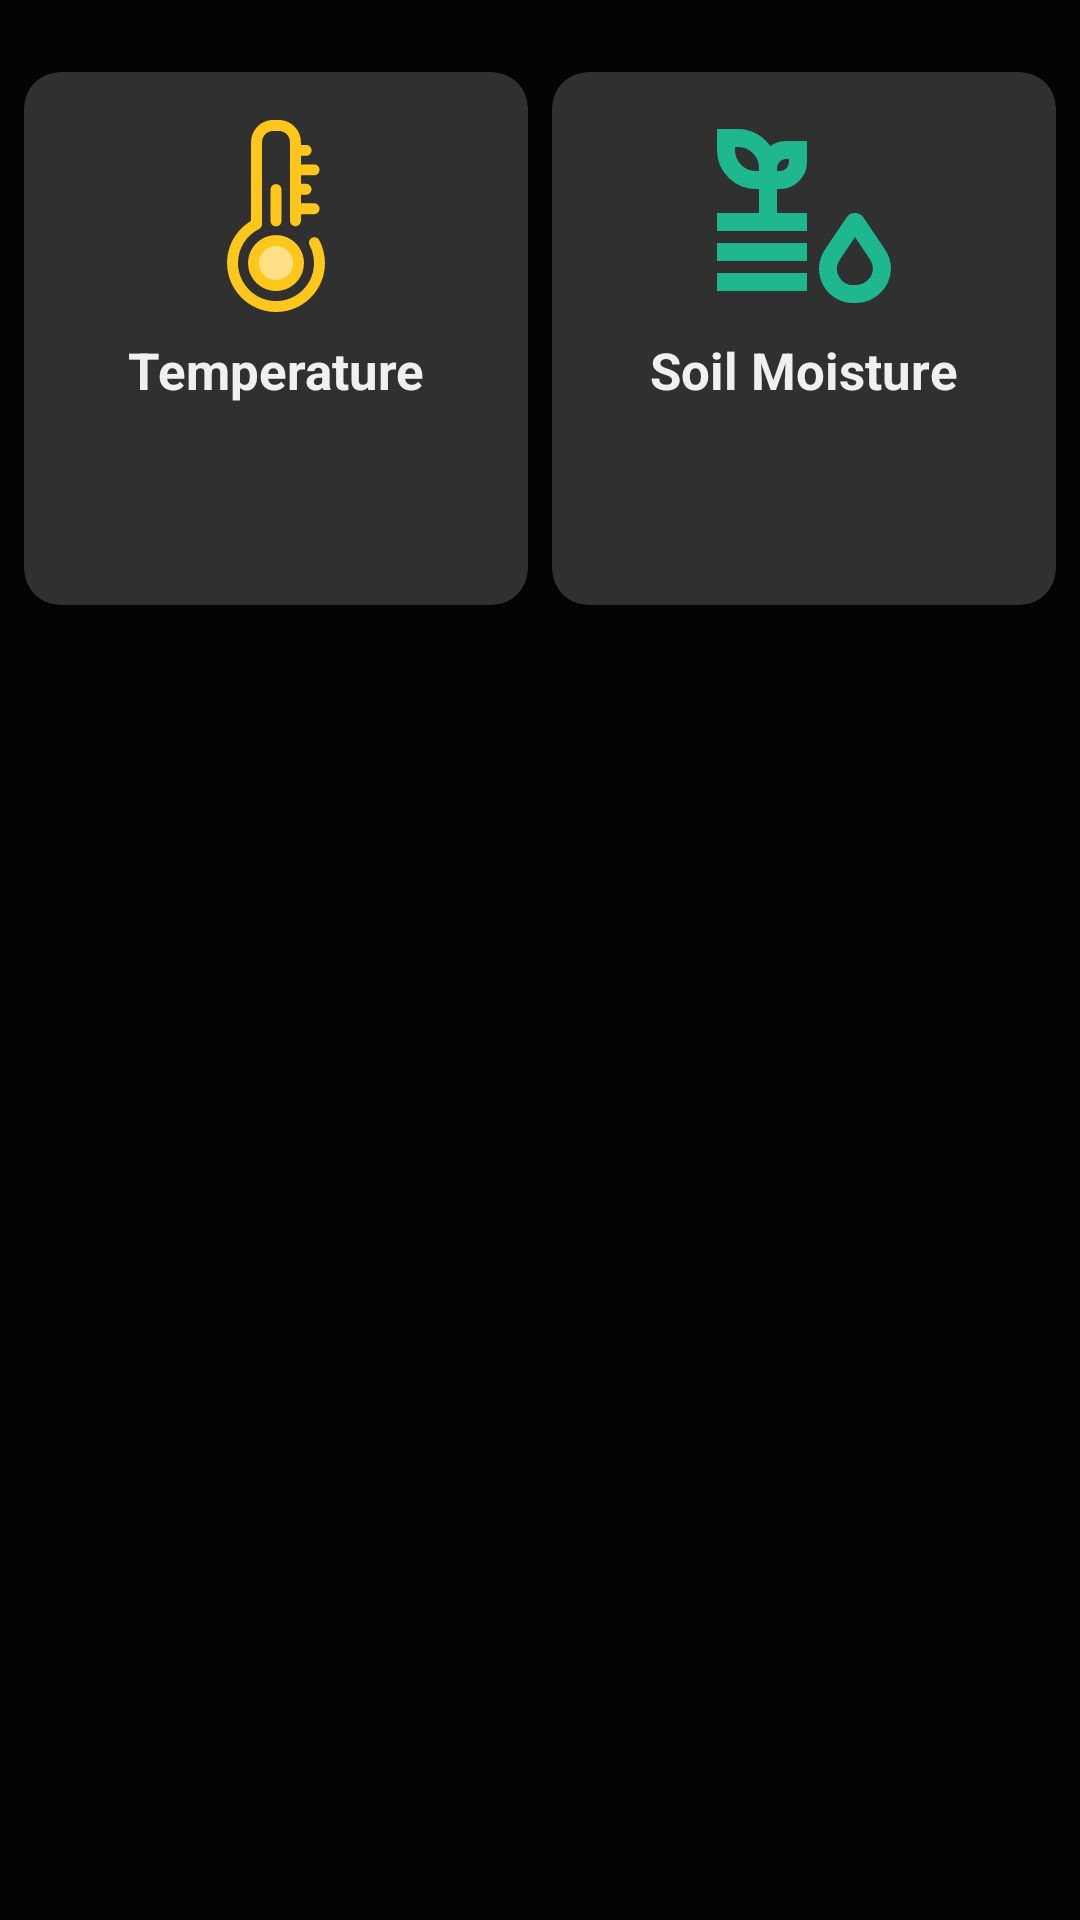

Icons on this 1080px x 1920px Android screen, each with its box as (x1, y1, x2, y2):
thermometer: (227, 120, 325, 312)
